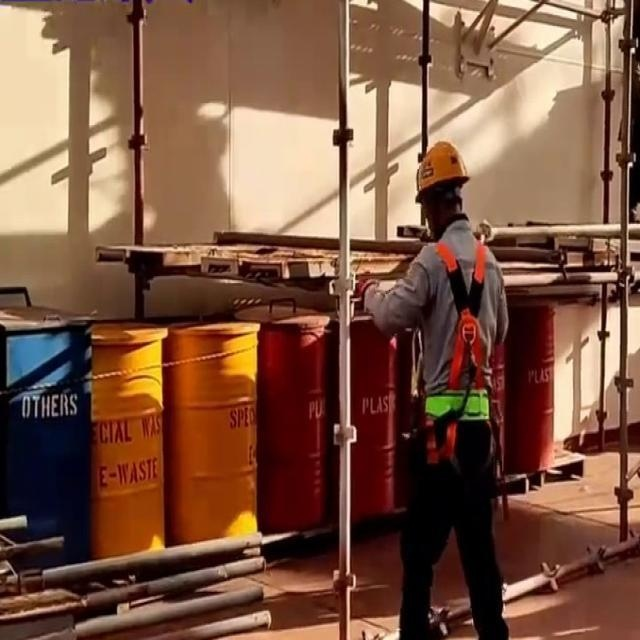Arnes_seguridad: (426, 231, 498, 389)
